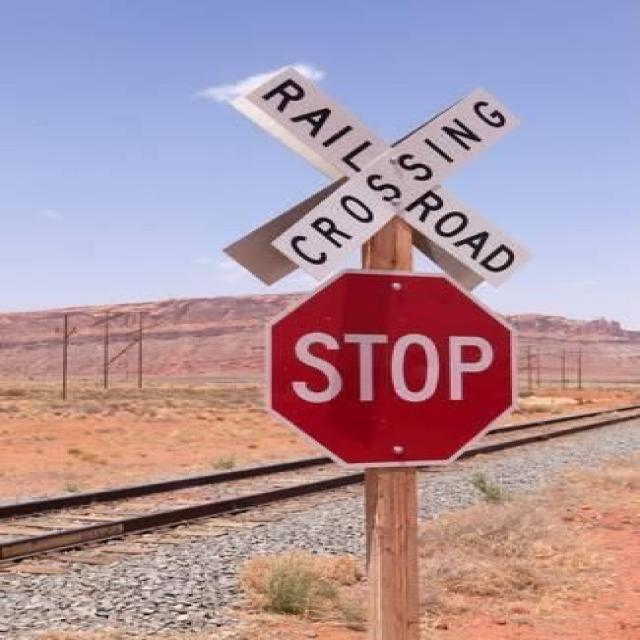stop: (272, 272, 513, 464)
